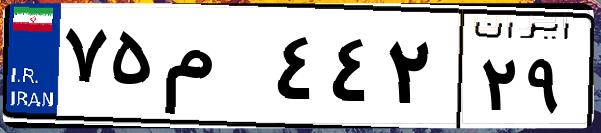2: (385, 28, 445, 110), (475, 38, 525, 113)
4: (270, 28, 330, 110), (330, 28, 385, 110)
5: (110, 28, 158, 98)
7: (57, 26, 110, 100)
9: (525, 38, 570, 115)
م: (158, 20, 270, 120)
